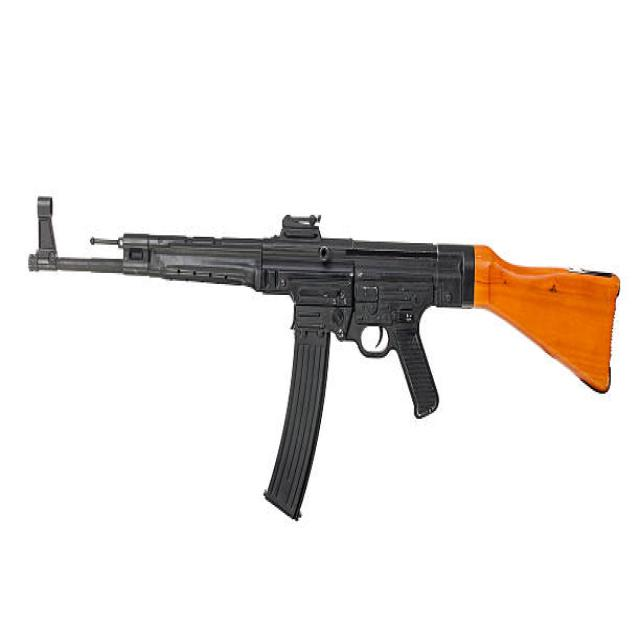rifle: (25, 188, 623, 528)
